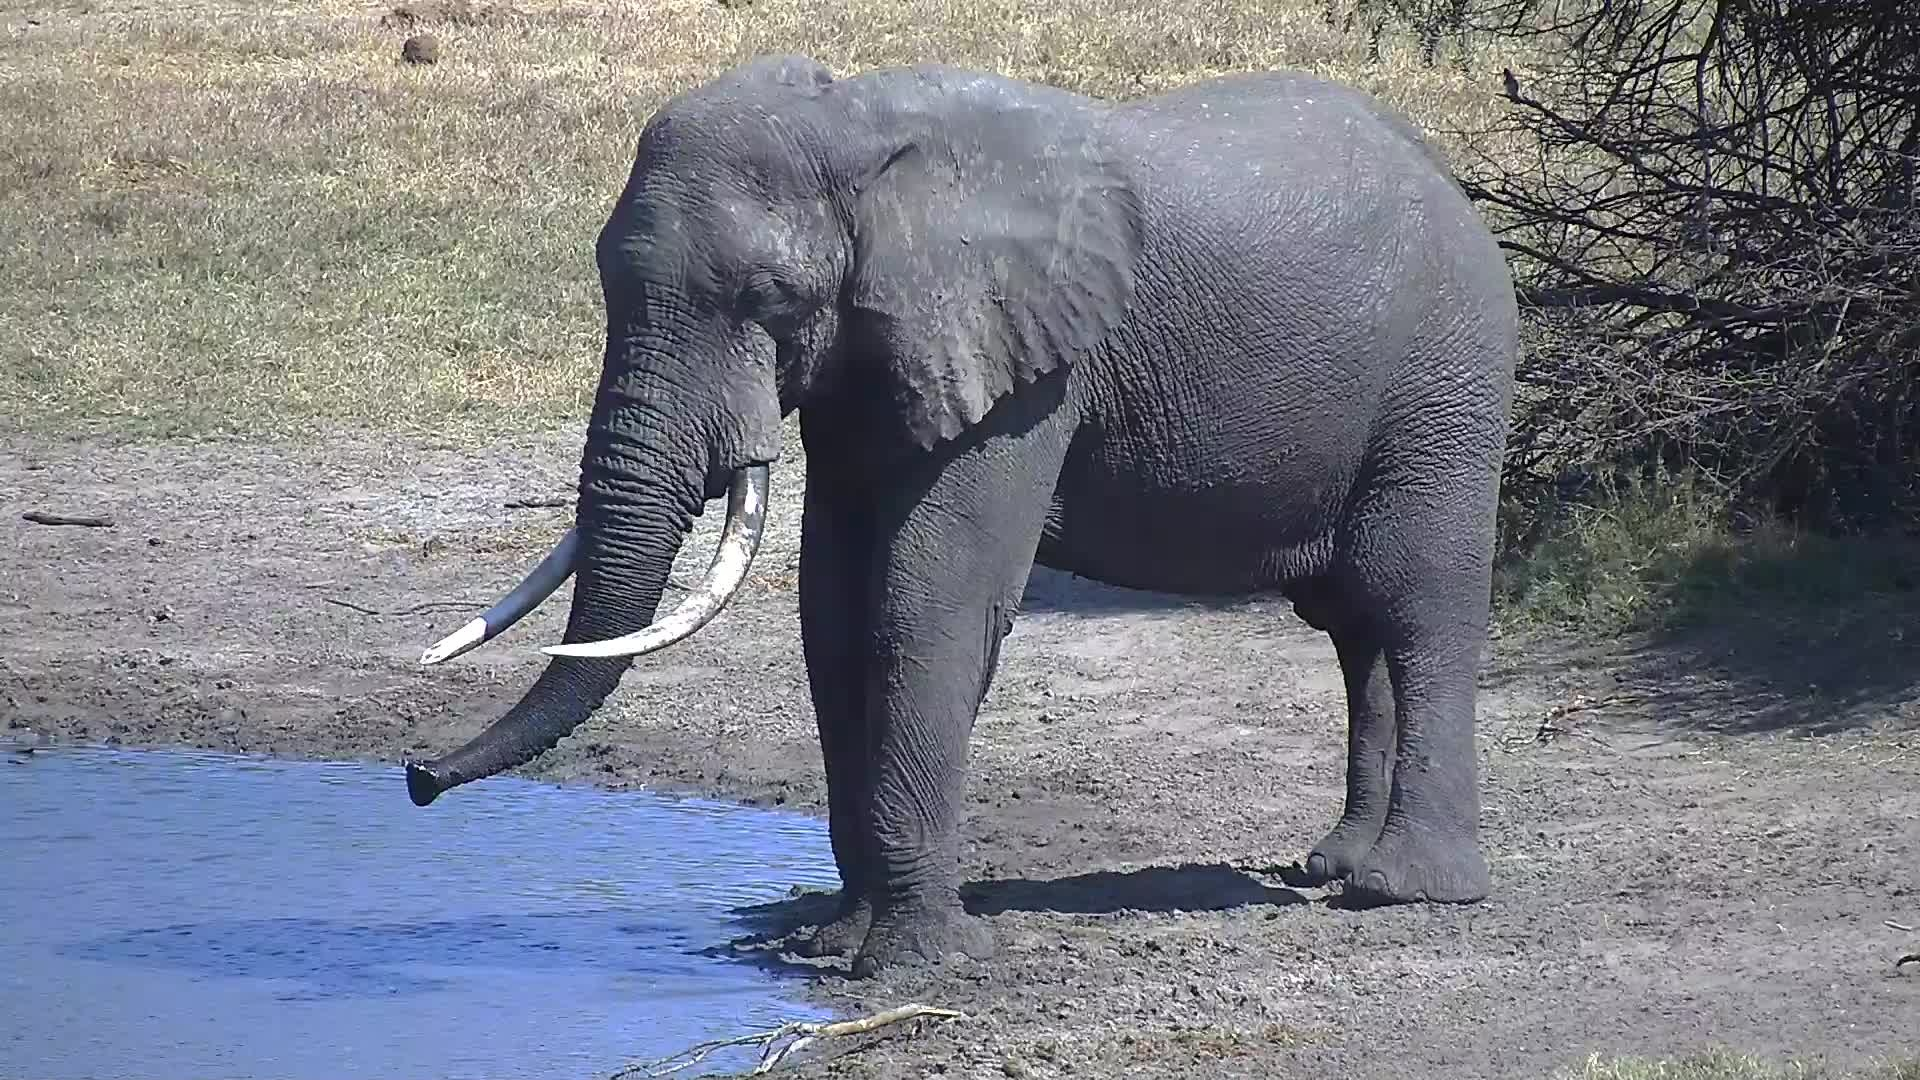elephant: (400, 55, 1510, 913)
